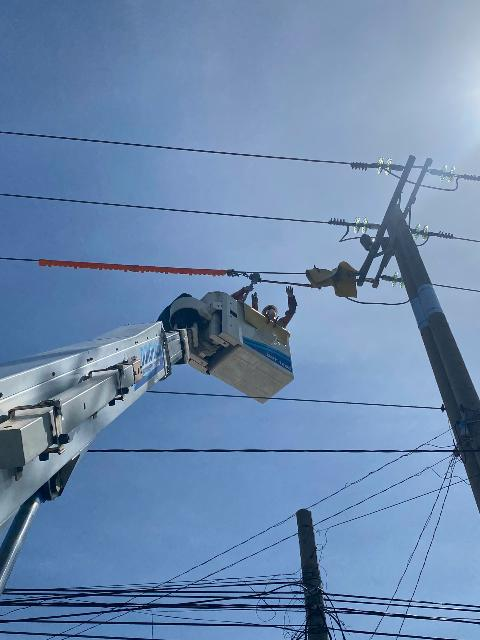gloves: (240, 285, 257, 293), (285, 283, 294, 298), (250, 292, 261, 304)
helmet: (258, 305, 280, 316)
